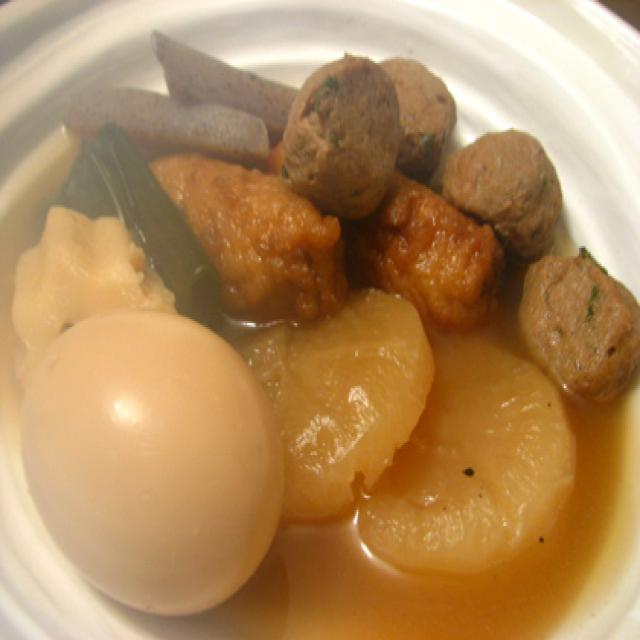汤锅炖物: (0, 22, 640, 616)
